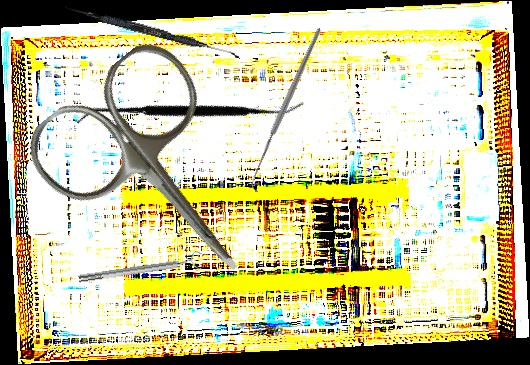Fixation Ring: (77, 250, 205, 288)
Hook Surgical: (199, 27, 376, 193)
Iris Scissors: (15, 30, 304, 327)
Spatula Surgical: (74, 9, 307, 216), (63, 5, 243, 59)
